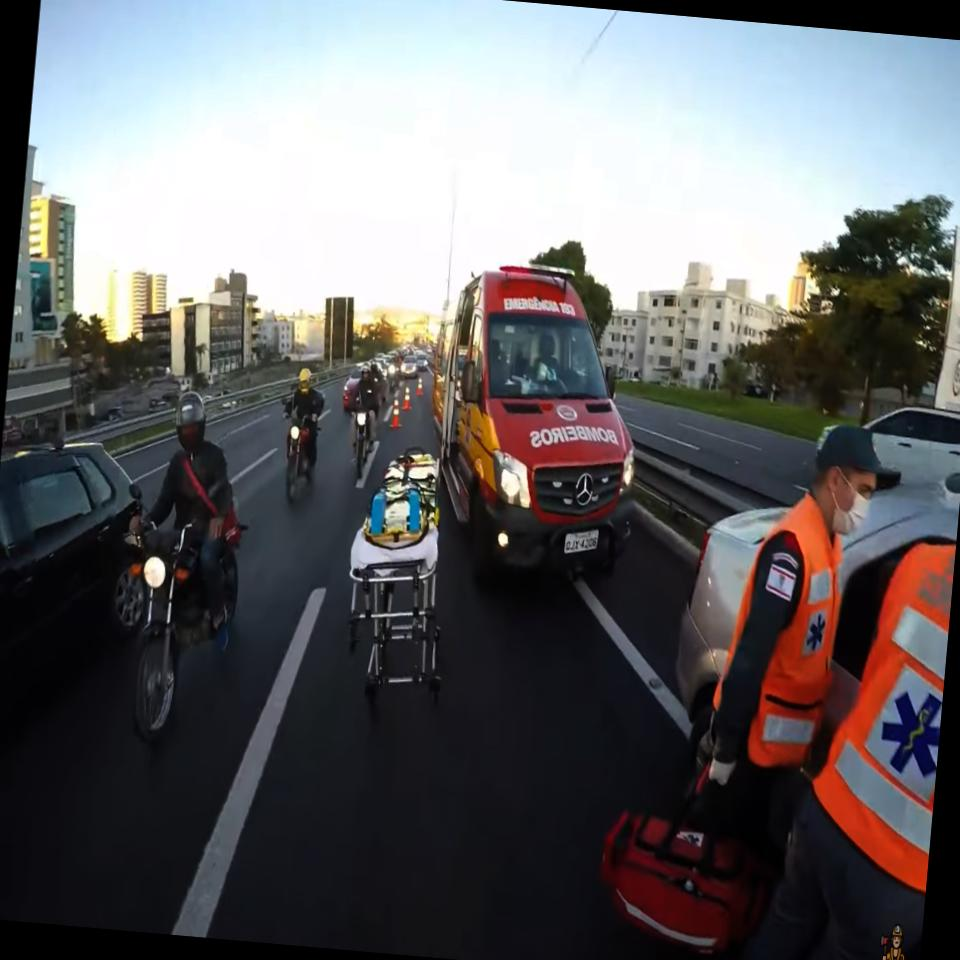viatura: (417, 257, 655, 590)
